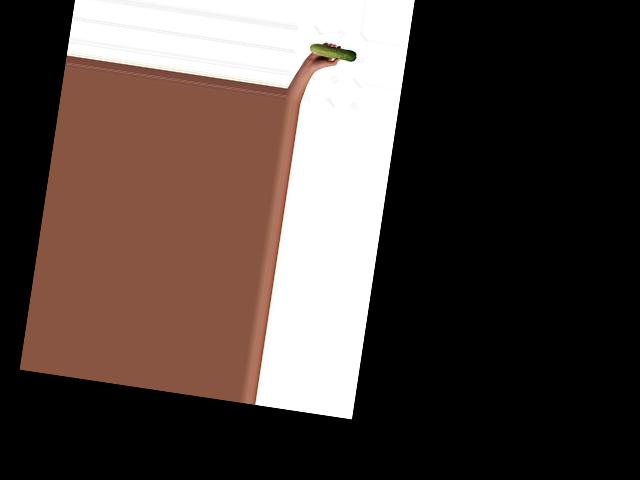cucumber: (308, 43, 357, 63)
